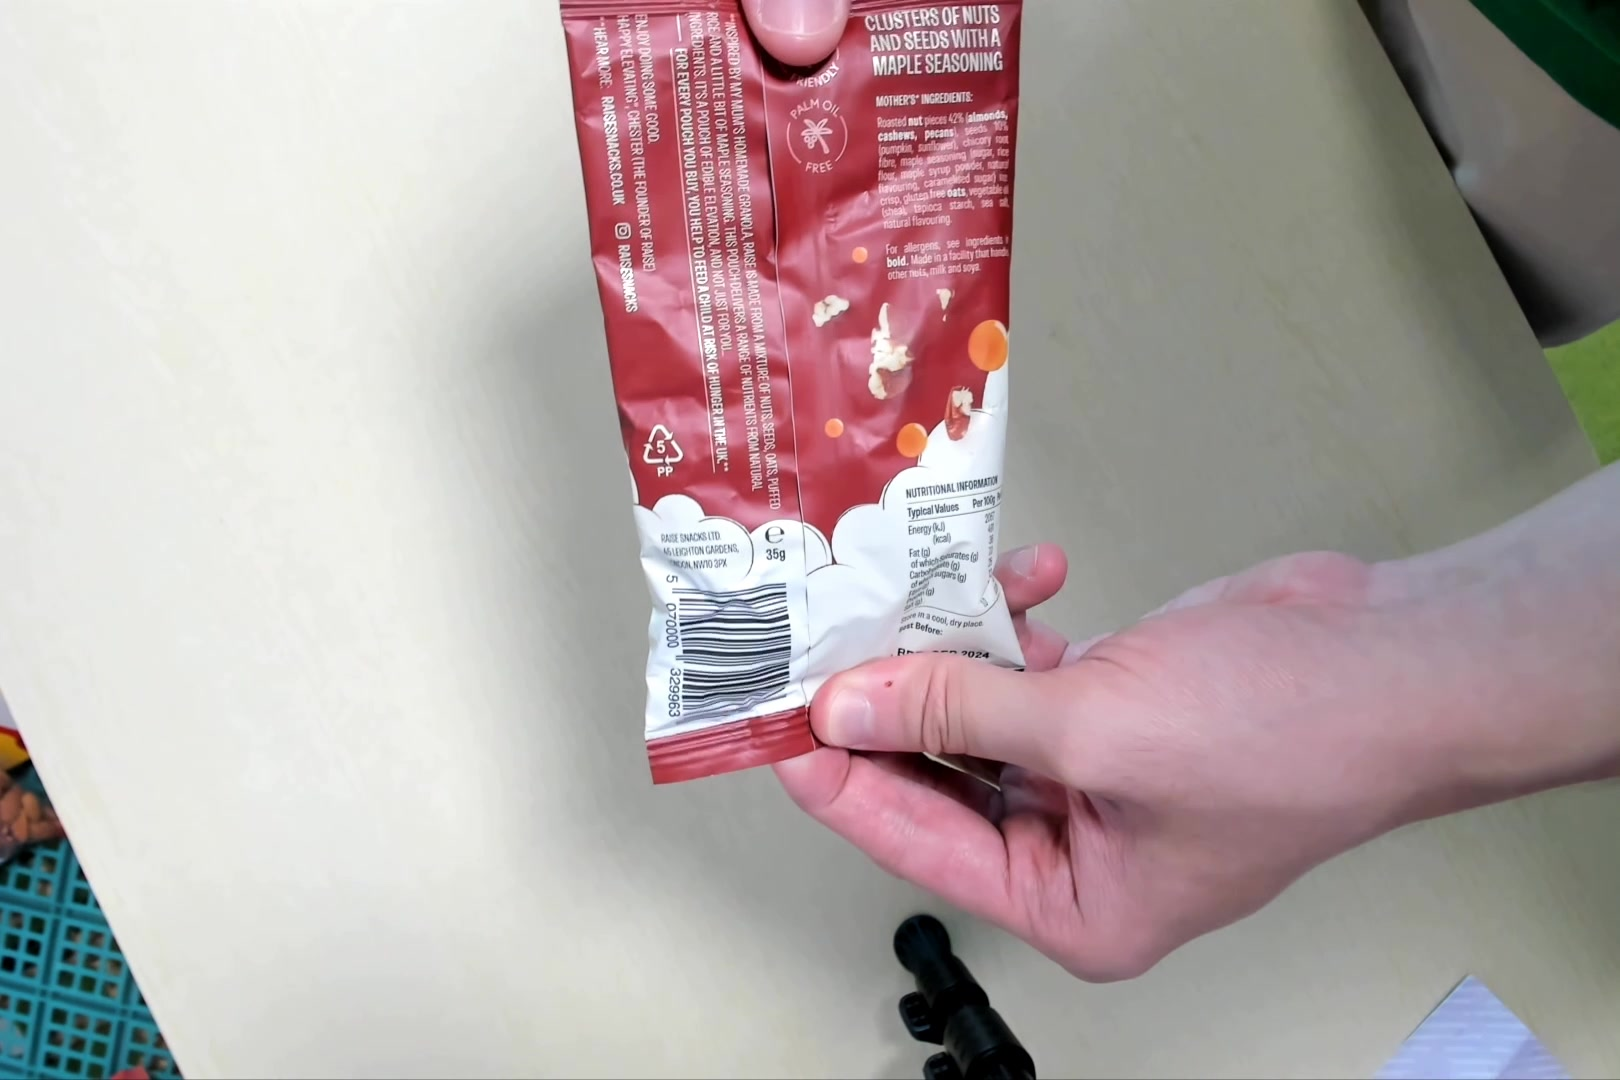Nuts_0-99g_NonHalal_NonHealthy: (565, 4, 1031, 781)
